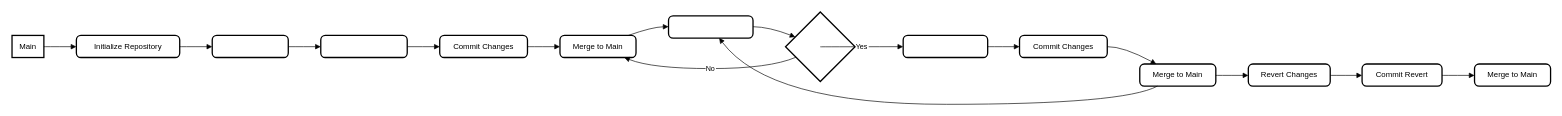
Some shapes in this 1562 by 116 pixel diagram are drawn without their labels. Each missing label, with the box of its shape:
Bug Fix?: (785, 11, 855, 82)
Create Branch: (211, 34, 289, 58)
Develop Bug Fix: (902, 34, 988, 58)
Develop Feature: (320, 34, 408, 58)
Release Feature: (668, 15, 753, 38)
